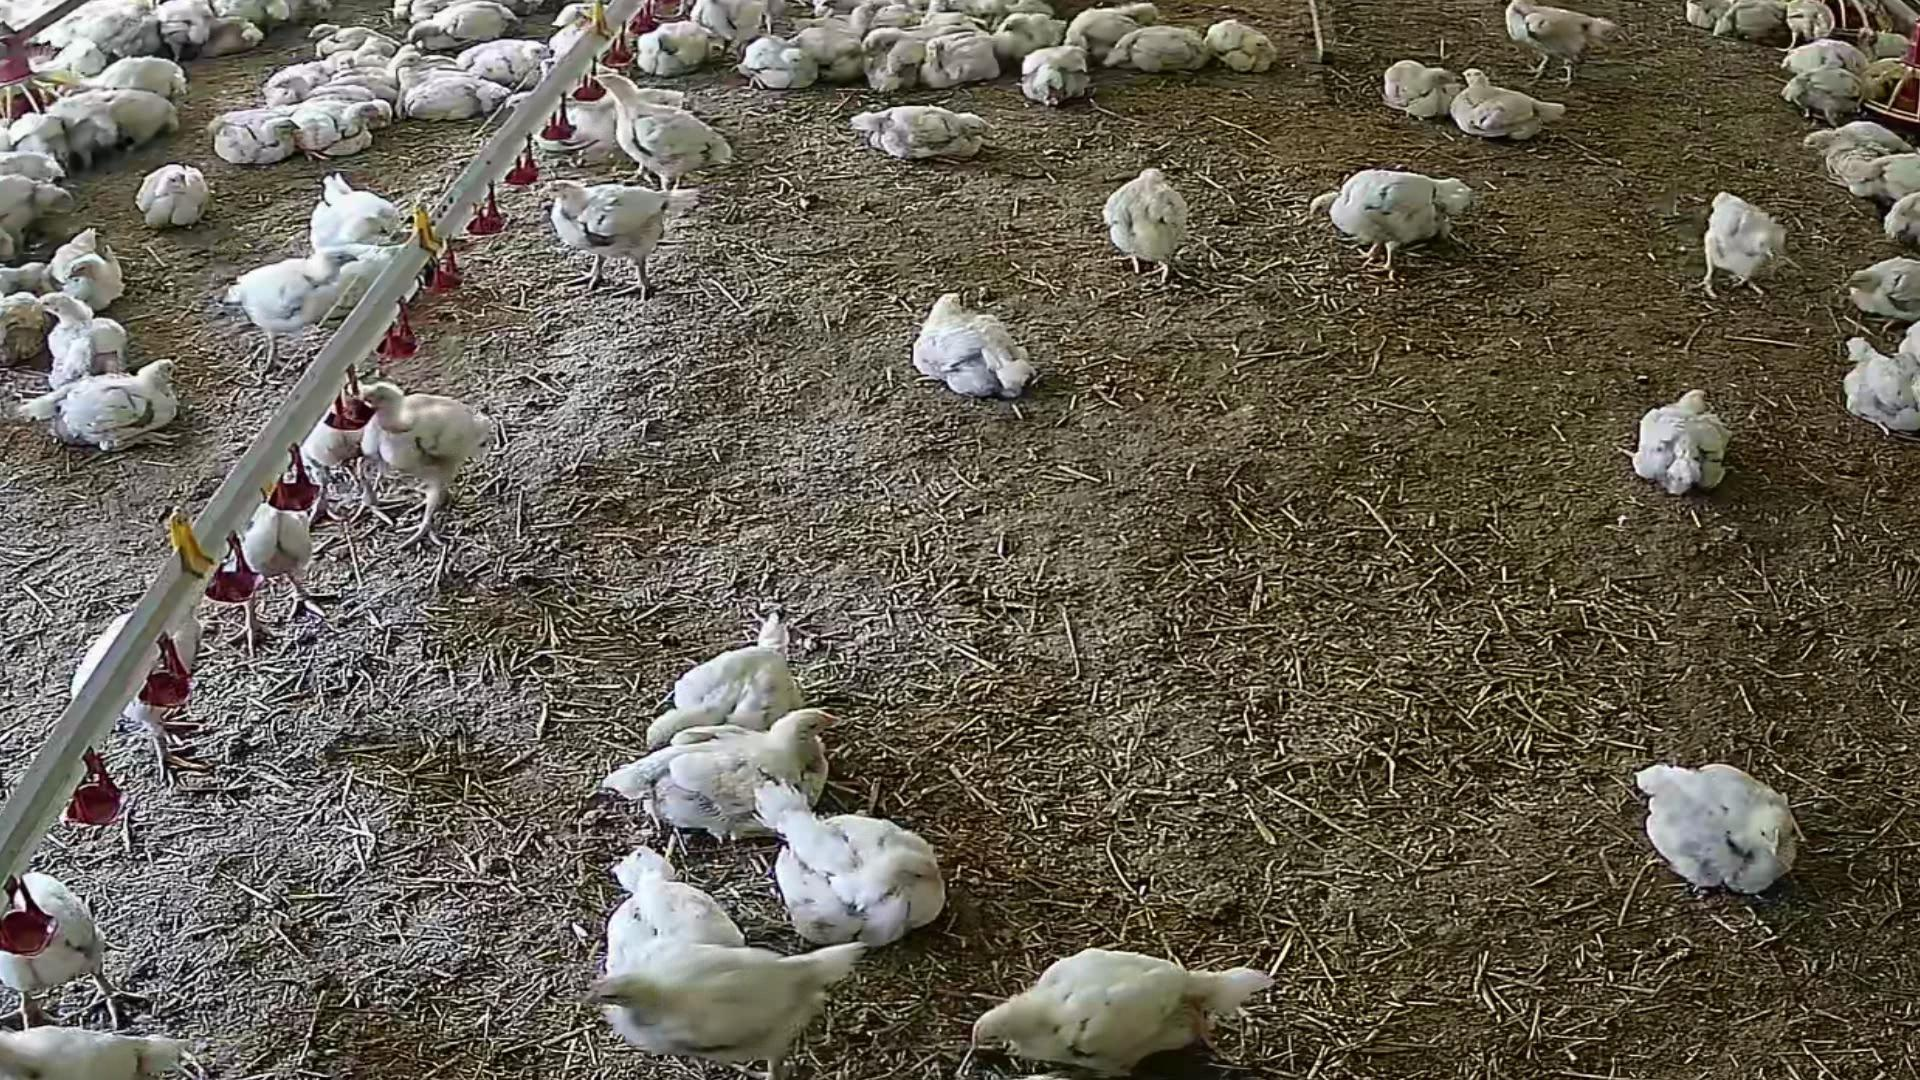poussin: (585, 938, 905, 1080), (62, 564, 261, 787), (972, 938, 1271, 1080), (599, 699, 869, 848), (898, 252, 1073, 468), (1605, 745, 1818, 922), (750, 790, 957, 960), (353, 361, 526, 556), (1067, 153, 1261, 322), (1298, 150, 1470, 301), (662, 615, 835, 762), (580, 848, 765, 978), (542, 160, 702, 310), (237, 448, 345, 670), (1611, 373, 1763, 526), (605, 54, 753, 203), (41, 348, 211, 476), (0, 978, 186, 1080), (1669, 175, 1795, 324), (0, 870, 131, 1004), (1505, 0, 1660, 108), (235, 252, 357, 378), (1455, 57, 1563, 169), (307, 170, 425, 272), (1352, 51, 1476, 141), (37, 287, 144, 390), (1805, 113, 1915, 214), (1822, 334, 1920, 444), (855, 102, 998, 175), (131, 152, 222, 241), (731, 33, 833, 112), (1098, 16, 1221, 79), (1774, 20, 1875, 87), (628, 12, 717, 87), (50, 228, 127, 311), (401, 67, 516, 123), (1780, 62, 1890, 120), (916, 33, 1010, 98), (1850, 253, 1920, 339), (1025, 41, 1109, 111), (87, 91, 191, 145), (0, 285, 59, 378), (406, 3, 526, 49), (0, 174, 69, 253), (297, 100, 384, 162), (1204, 15, 1276, 87), (865, 29, 935, 104), (1870, 160, 1920, 262), (465, 36, 555, 91), (219, 108, 302, 166), (684, 0, 785, 47), (1054, 5, 1150, 53), (98, 58, 200, 100), (306, 20, 419, 58), (152, 0, 222, 59), (335, 50, 418, 98), (277, 75, 380, 113), (994, 8, 1083, 51), (58, 99, 116, 164), (804, 17, 869, 74), (211, 11, 272, 57), (1720, 0, 1782, 45), (0, 150, 65, 186), (4, 117, 83, 145), (1783, 0, 1841, 36), (1680, 0, 1741, 33)
